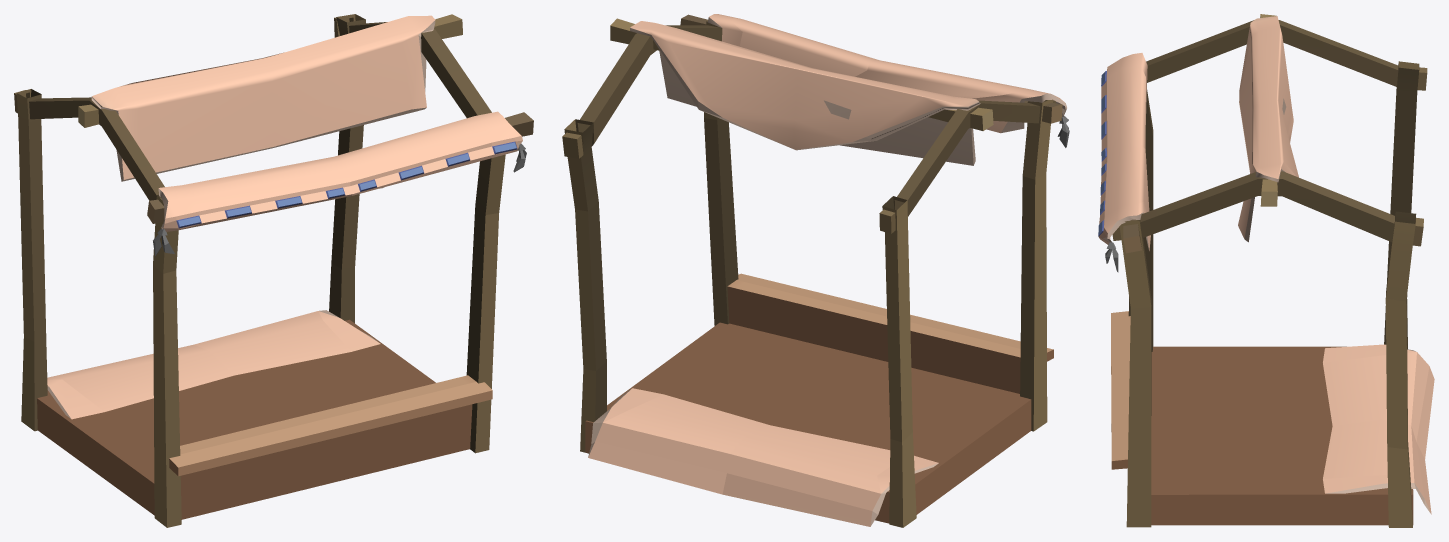
Rendered from MarketStall_pink_broken.fbx.
3 renders of one model, left to right at view 1: azimuth 30°, elevation 25°; view 2: azimuth 150°, elevation 25°; view 3: azimuth 270°, elevation 25°, orthographic. The views are drawn at different scales.
Visible parts, largest first — view 1: MarketStall_pink_broken; view 2: MarketStall_pink_broken; view 3: MarketStall_pink_broken.
Part boxes in pixels (bbox=[...]): MarketStall_pink_broken: bbox=[14, 14, 533, 527]; MarketStall_pink_broken: bbox=[562, 14, 1069, 527]; MarketStall_pink_broken: bbox=[1098, 14, 1434, 527].
Size of the model in its own units: 3.23 by 3.05 by 2.55.
